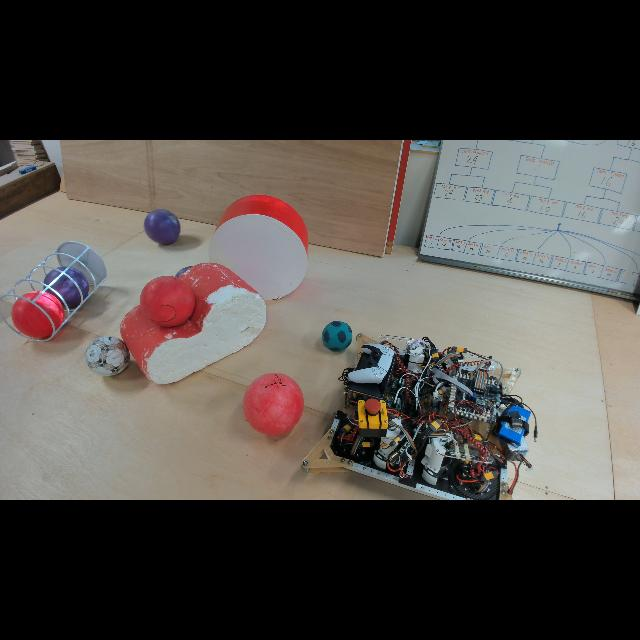P: (43, 266, 89, 308)
R: (242, 372, 304, 436), (140, 275, 196, 327), (11, 290, 65, 338), (144, 210, 180, 244)
S: (0, 240, 110, 344)
